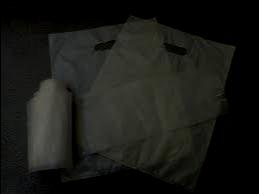Plastic: (30, 17, 230, 193)
